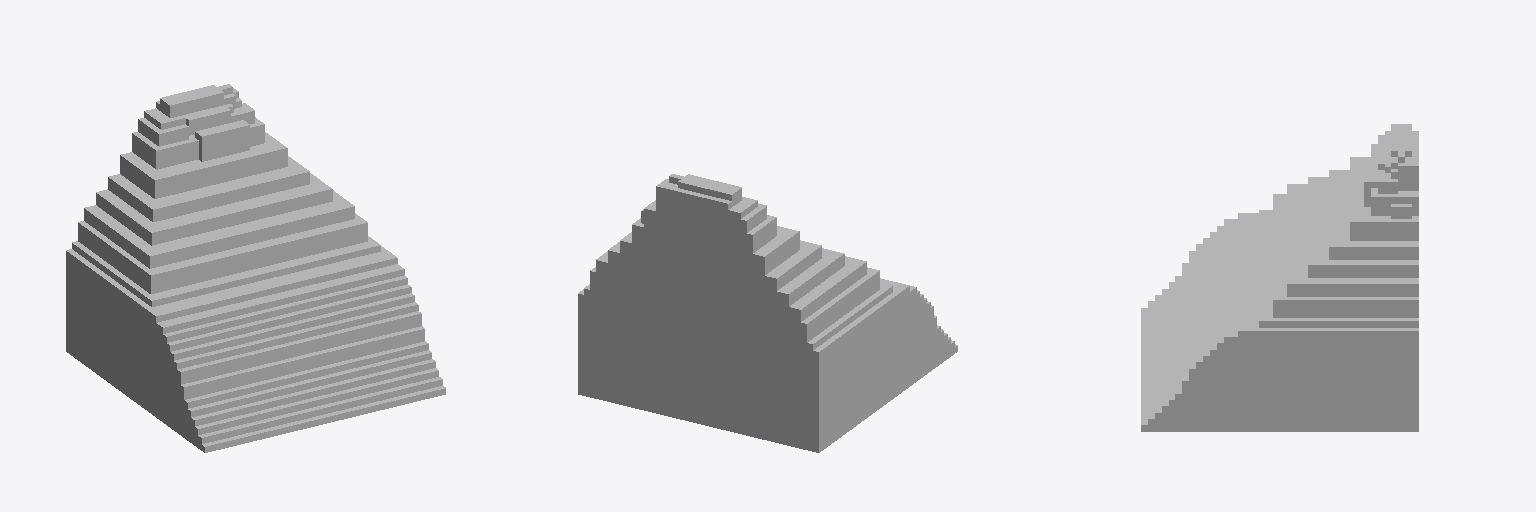
The model's file is Mountain.obj.
3 renders of one model, left to right at view 1: azimuth 30°, elevation 25°; view 2: azimuth 150°, elevation 25°; view 3: azimuth 270°, elevation 25°, orthographic.
Parts seen in each view (by area): view 1: object 1; view 2: object 1; view 3: object 1.
Boxes of the visible parts, x1,y1,x2,y2 form: object 1: [66, 84, 445, 452]; object 1: [578, 174, 957, 452]; object 1: [1141, 124, 1418, 431].
Size of the model in its own units: 4 by 3.7 by 4.